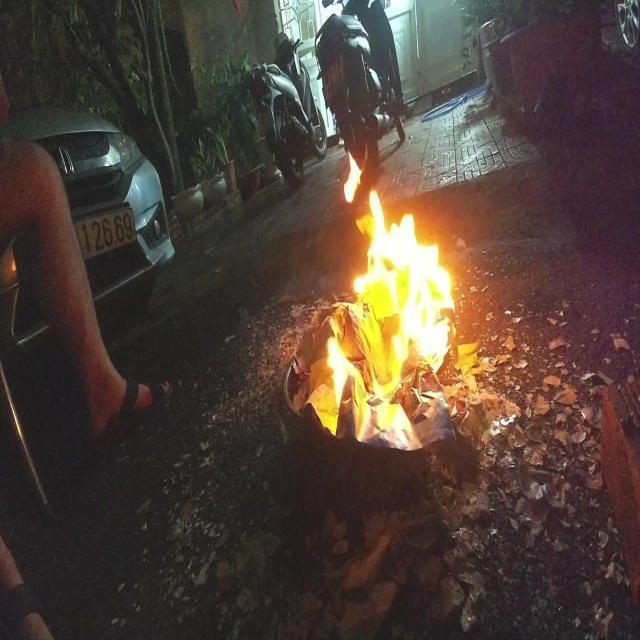Fire: (328, 150, 457, 398)
